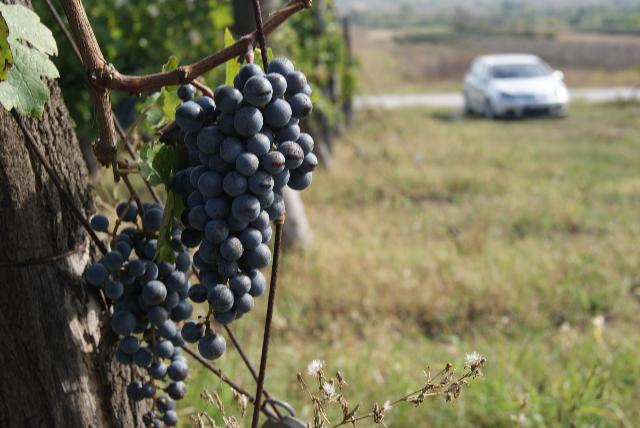grapes: (189, 58, 318, 324), (85, 201, 192, 428), (160, 84, 221, 288)
